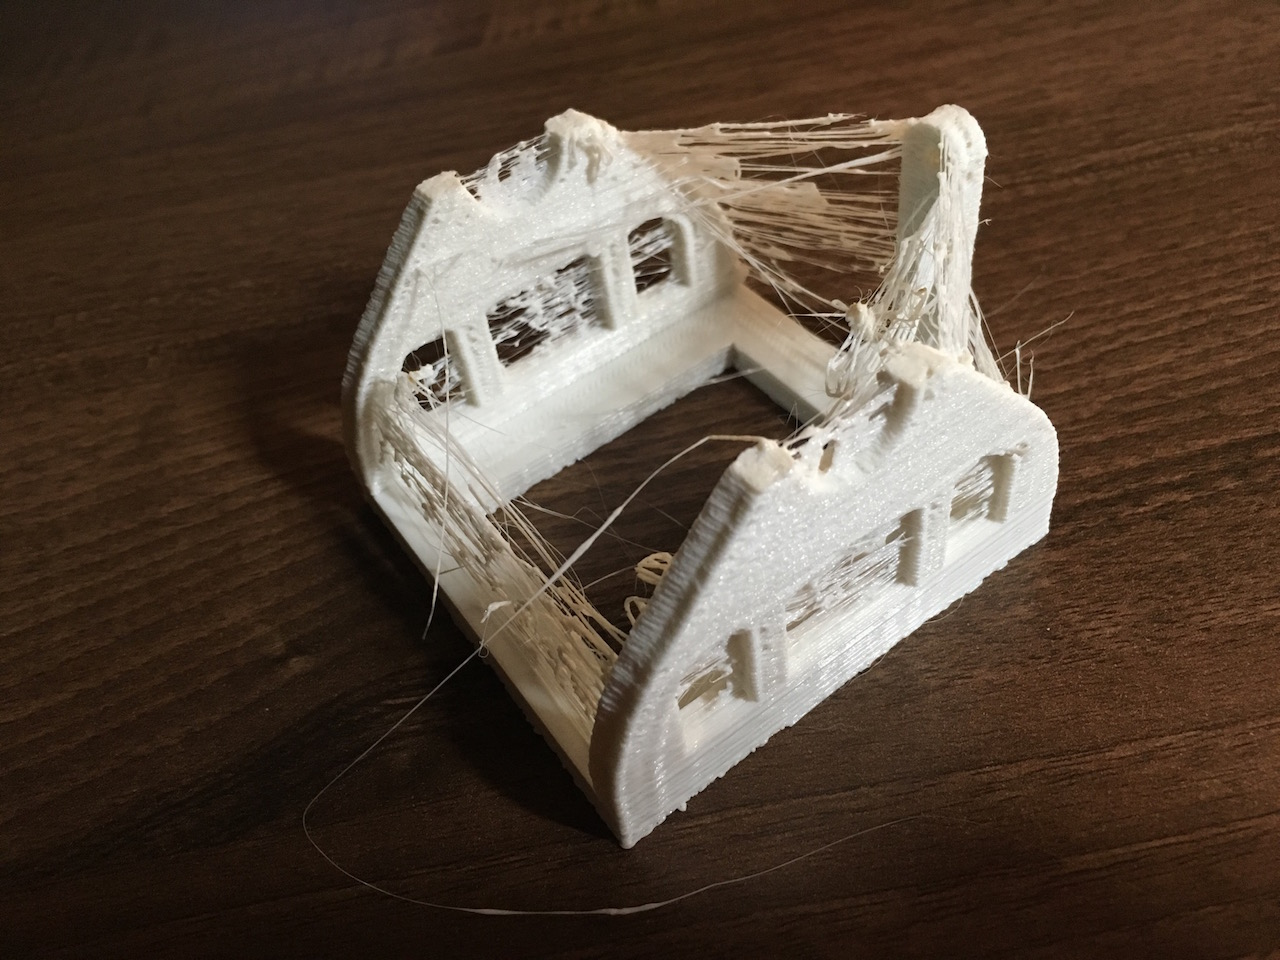3dpstringing: (296, 639, 496, 831), (502, 555, 623, 713), (761, 131, 888, 252), (961, 295, 1095, 401), (407, 434, 494, 593), (658, 116, 751, 232), (497, 276, 609, 359), (795, 561, 930, 622), (753, 260, 865, 333), (564, 464, 652, 548), (667, 429, 791, 486), (871, 269, 949, 349), (820, 366, 914, 430), (407, 338, 482, 411), (659, 654, 749, 704), (629, 558, 679, 642), (467, 155, 558, 202), (952, 474, 1007, 531), (627, 238, 678, 295)
